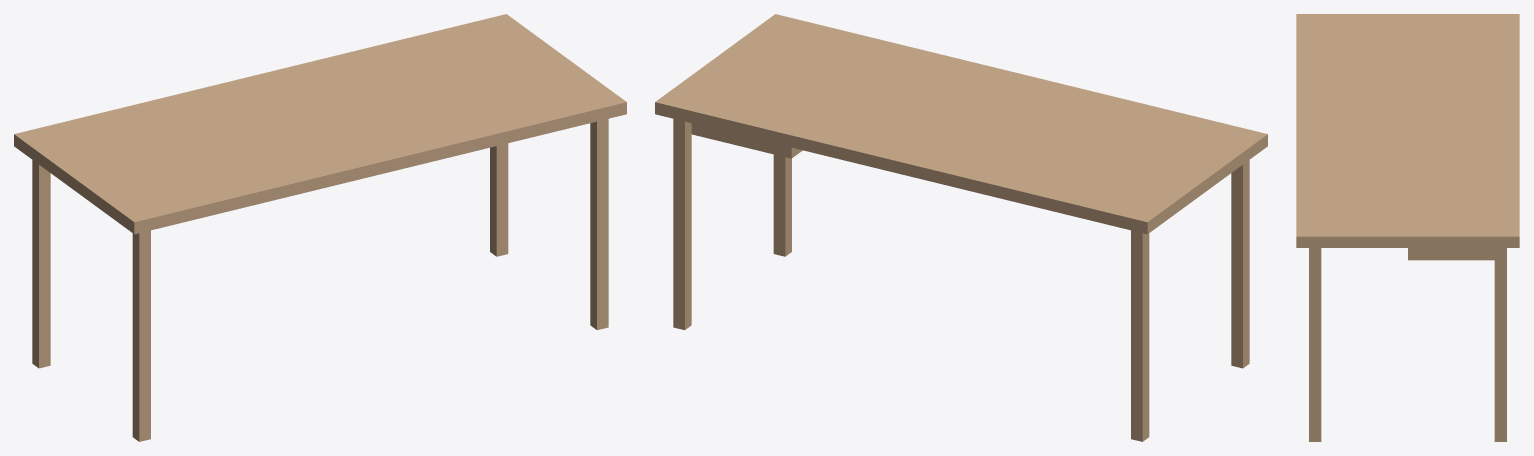
File: desk_06.glb
The picture shows the model from 3 angles, left to right: view 1: azimuth 30°, elevation 25°; view 2: azimuth 150°, elevation 25°; view 3: azimuth 270°, elevation 25°; orthographic projection. The views are drawn at different scales.
Bounding box in the file's own units: 1.7 × 0.75 × 0.72.
